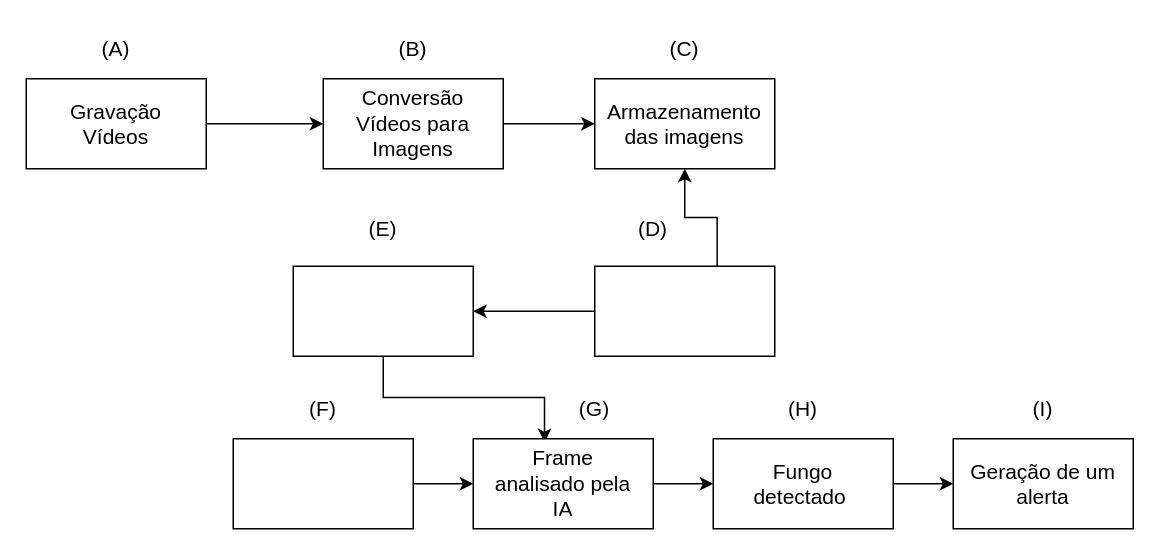
Some shapes in this 1160 by 555 pixel diagram are drawn without their labels. The shapes that lost their labels are listed below. From the top down, each one's centre as x and y in pixels, then its label:
the point at 382,310: IA Treinada
the point at 684,310: Treinamento da IA
the point at 322,483: Câmera analisa os compostos
